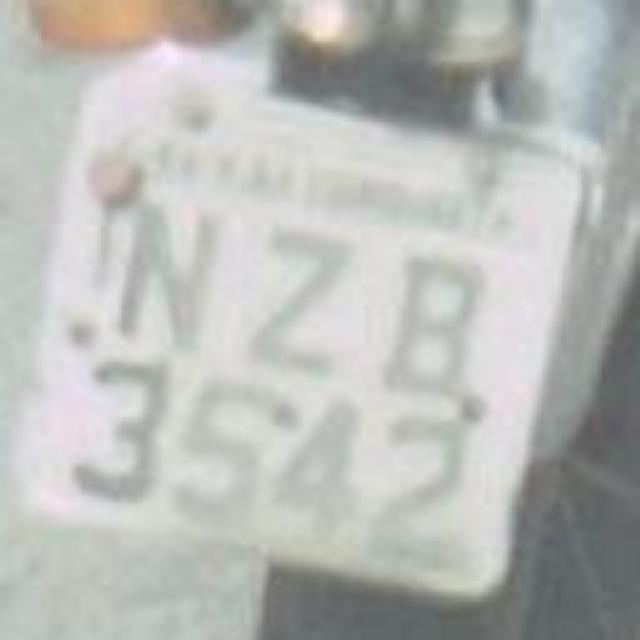0: (249, 368, 396, 548)
2: (348, 376, 504, 569)
3: (44, 332, 184, 520)
5: (156, 360, 292, 525)
B: (364, 224, 496, 411)
N: (80, 180, 220, 360)
Z: (228, 209, 352, 376)
